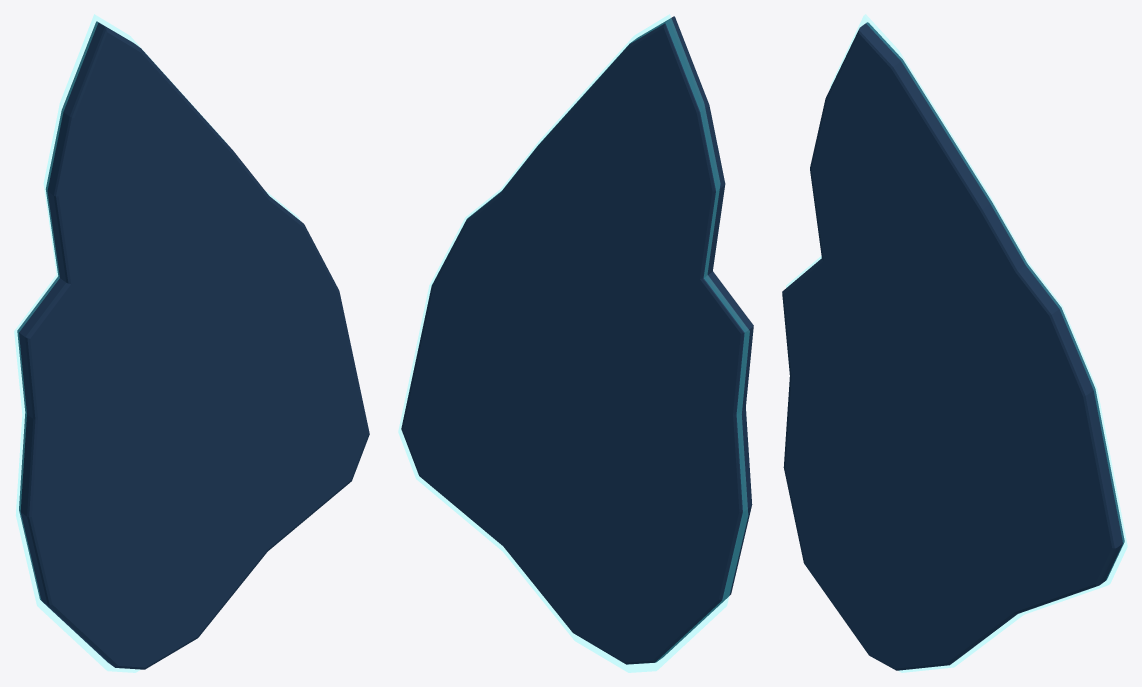
File: sri-lanka.glb
The picture shows the model from 3 angles, left to right: view 1: azimuth 30°, elevation 25°; view 2: azimuth 150°, elevation 25°; view 3: azimuth 330°, elevation 25°; orthographic projection. The views are drawn at different scales.
Parts seen in each view (by area): view 1: LandMass, Halo; view 2: LandMass, Halo; view 3: LandMass, Halo.
Part boxes in pixels (x1,y1,x2,y2): LandMass: (17,21,369,669); Halo: (14,14,299,672); LandMass: (401,16,753,664); Halo: (398,14,749,672); LandMass: (782,22,1124,670); Halo: (786,14,1127,672).
Bounding box in the file's own units: 5.76 × 10.49 × 0.32.
